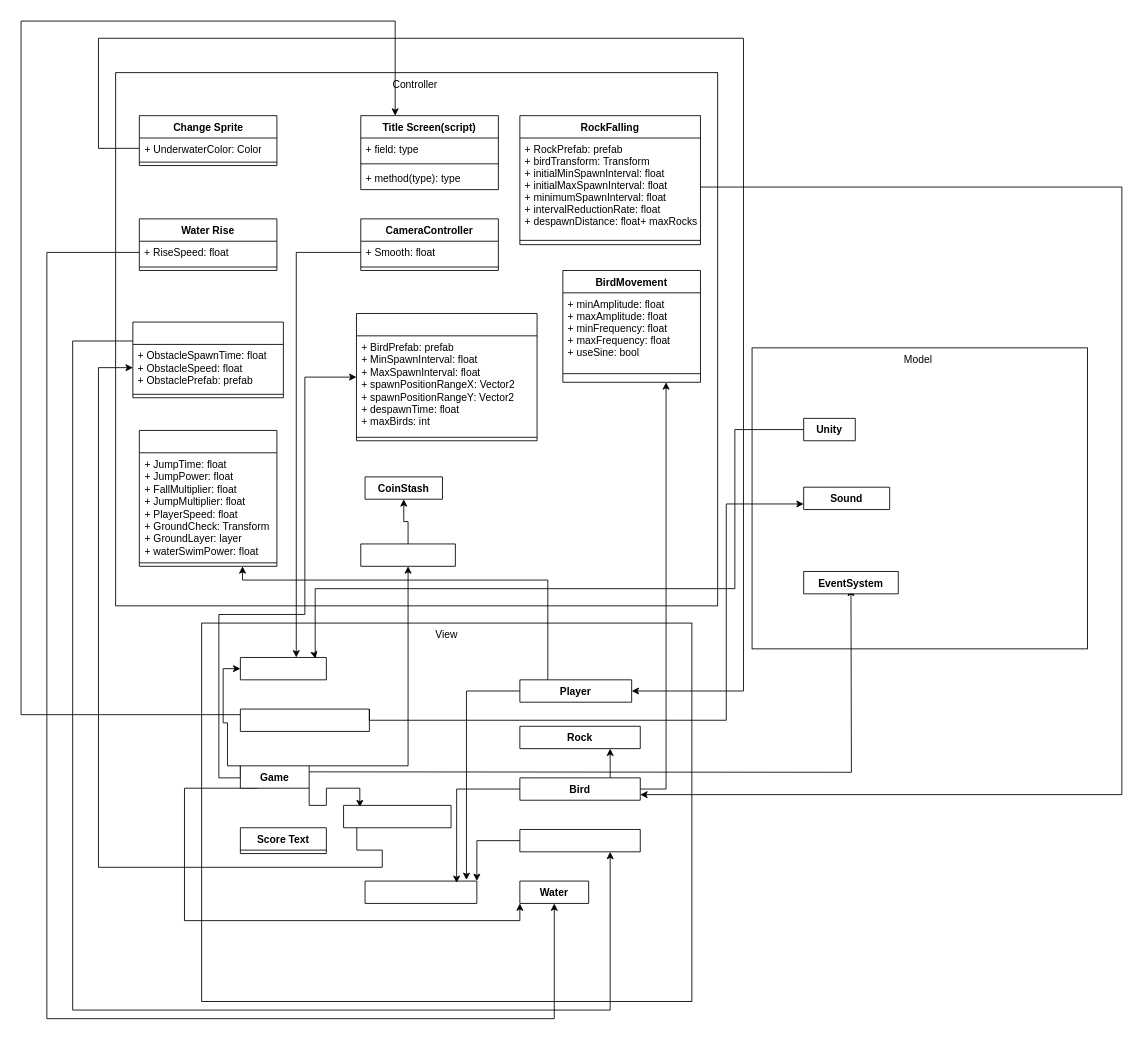
Some shapes in this 1144 by 1041 pixel diagram are drawn without their labels. Here are the shapes that lost their labels. From the top down, the box of each, then its label:
(132, 321, 283, 398): Platform Controller
(356, 313, 537, 441): Bird Spawner
(138, 430, 277, 566): PlayerMovement
(360, 543, 455, 566): ScoreController
(240, 657, 326, 680): Main Camera
(240, 708, 369, 731): Title Screen(Scene)
(343, 805, 451, 828): Platform Spawners
(519, 829, 640, 852): Platforms
(364, 880, 477, 903): 2D box Collision
